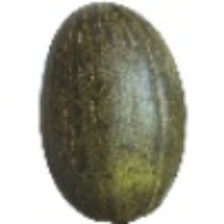honeydew: (49, 37, 196, 224)
